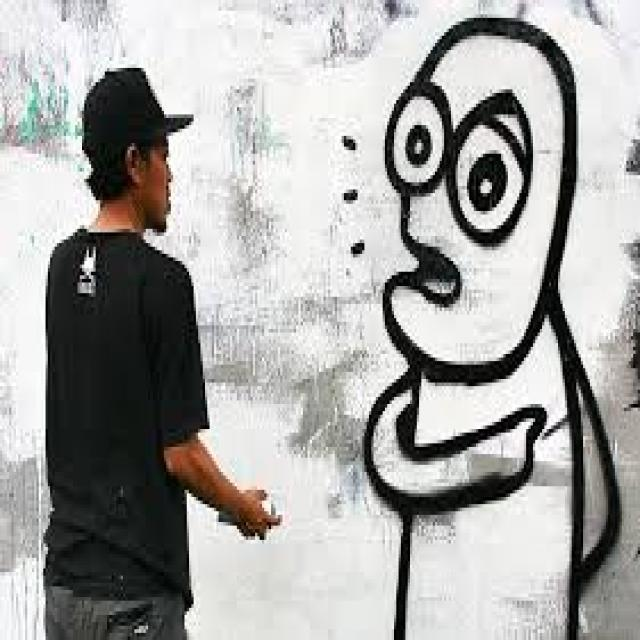-: (340, 15, 622, 640)
